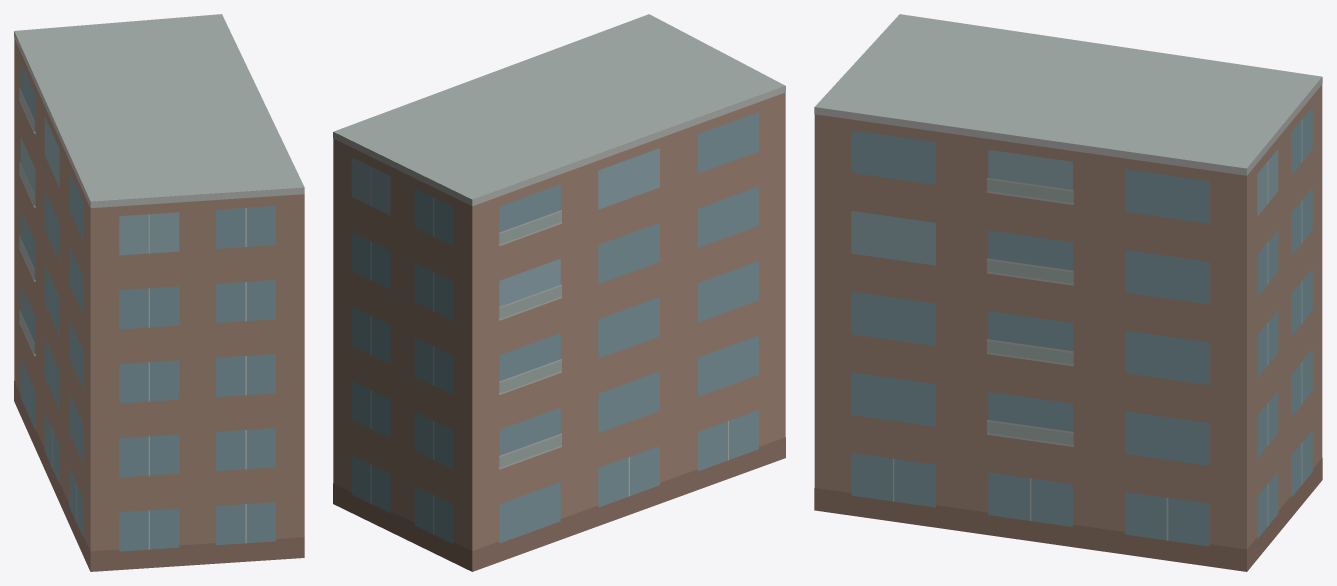
The model's file is survey-upis-32886763.glb.
3 views of the same model, side by side, from view 1: azimuth 30°, elevation 25°; view 2: azimuth 150°, elevation 25°; view 3: azimuth 270°, elevation 25° (orthographic). The views are drawn at different scales.
Parts seen in each view (by area): view 1: survey-upis-32886763.tmp; view 2: survey-upis-32886763.tmp; view 3: survey-upis-32886763.tmp.
Boxes of the visible parts, x1,y1,x2,y2 form: survey-upis-32886763.tmp: [14, 14, 304, 571]; survey-upis-32886763.tmp: [333, 14, 785, 571]; survey-upis-32886763.tmp: [814, 14, 1322, 571].
Bounding box in the file's own units: 11.27 × 13.7 × 15.65.
